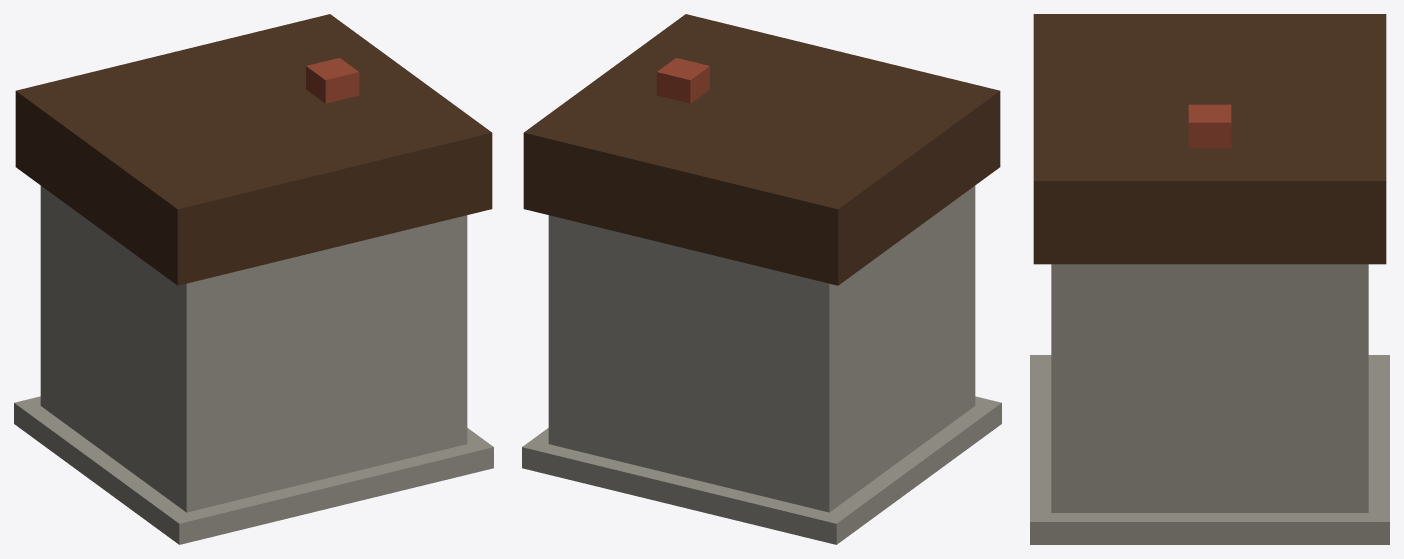
Rendered from bld_residential_a03_lod2.glb.
The picture shows the model from 3 angles, left to right: view 1: azimuth 30°, elevation 25°; view 2: azimuth 150°, elevation 25°; view 3: azimuth 270°, elevation 25°; orthographic projection. The views are drawn at different scales.
Parts seen in each view (by area): view 1: body; view 2: body; view 3: body.
Part boxes in pixels (x1,y1,x2,y2): body: (14,14,493,544); body: (522,14,1001,544); body: (1030,14,1389,544).
Size of the model in its own units: 5.6 by 6.09 by 5.1.
